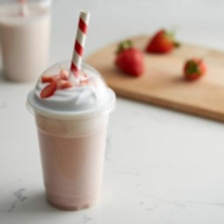drinking_straw: (62, 7, 95, 86)
glass: (21, 56, 122, 214)
